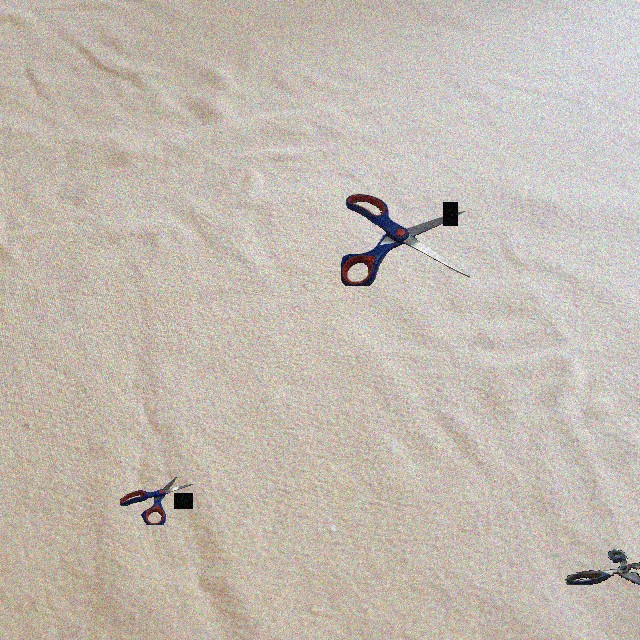scissors: (341, 194, 470, 286), (120, 476, 193, 525), (565, 549, 640, 585)
